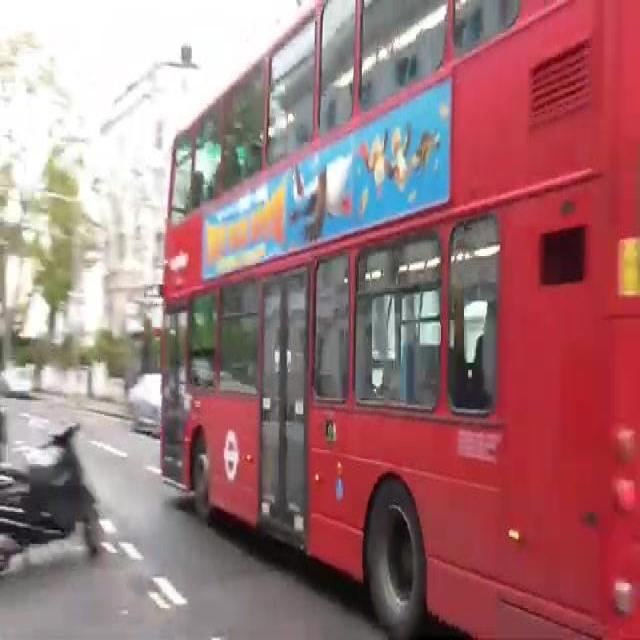motorcycle: (99, 0, 640, 635)
